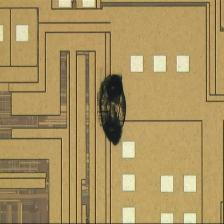PARTICLE: (95, 69, 134, 149)
